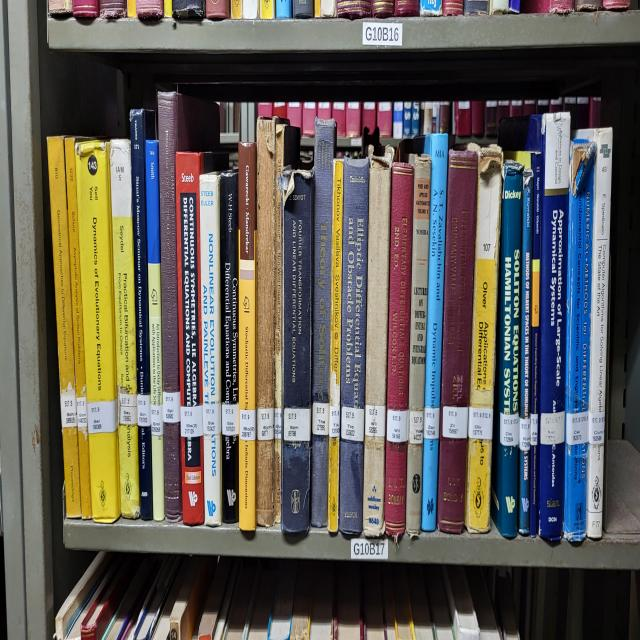Book: (158, 92, 220, 522), (75, 141, 120, 522), (438, 152, 478, 533), (465, 146, 502, 533), (539, 114, 570, 541), (580, 127, 612, 538), (564, 133, 595, 541), (48, 135, 80, 517), (281, 170, 314, 533), (339, 160, 370, 536), (491, 162, 522, 538), (110, 138, 140, 519), (175, 152, 205, 525), (421, 133, 449, 530), (385, 162, 414, 538), (130, 108, 155, 519), (311, 119, 336, 528), (405, 154, 431, 538), (65, 138, 91, 519), (256, 119, 275, 528), (145, 141, 165, 519), (365, 149, 394, 406), (200, 173, 221, 525), (220, 170, 239, 522), (239, 141, 256, 533), (328, 160, 344, 533), (519, 170, 534, 536), (530, 149, 542, 536)
Label: (88, 400, 118, 433), (341, 406, 365, 441), (284, 409, 310, 441), (442, 406, 468, 438), (540, 411, 565, 444), (386, 409, 409, 444), (566, 411, 589, 446), (468, 406, 492, 438), (365, 403, 386, 438), (180, 406, 202, 438), (60, 390, 78, 427), (119, 392, 138, 425), (202, 403, 221, 436), (500, 414, 519, 446), (221, 403, 239, 436), (312, 403, 329, 436), (239, 409, 256, 441), (162, 392, 180, 422), (589, 411, 605, 444), (409, 409, 424, 444), (258, 409, 274, 441), (424, 406, 440, 438), (138, 395, 151, 427), (519, 417, 530, 452), (76, 398, 88, 430), (150, 406, 162, 436), (329, 406, 340, 438), (530, 414, 538, 446)
